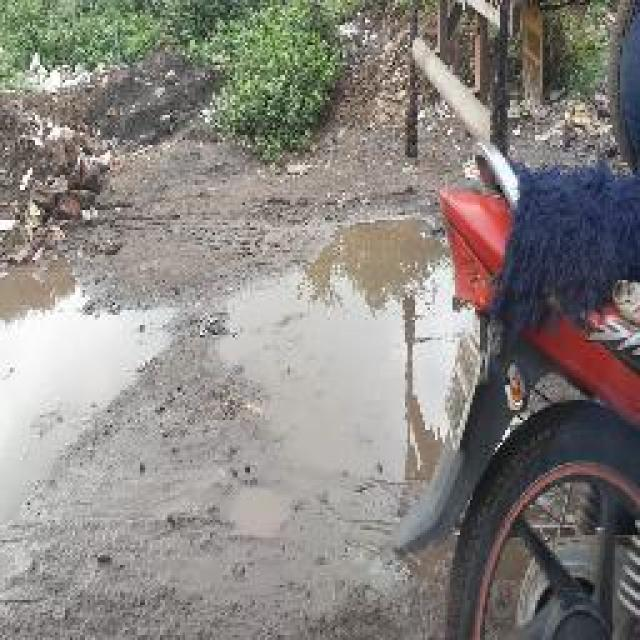stagnation: (234, 194, 480, 498), (0, 235, 192, 516)
